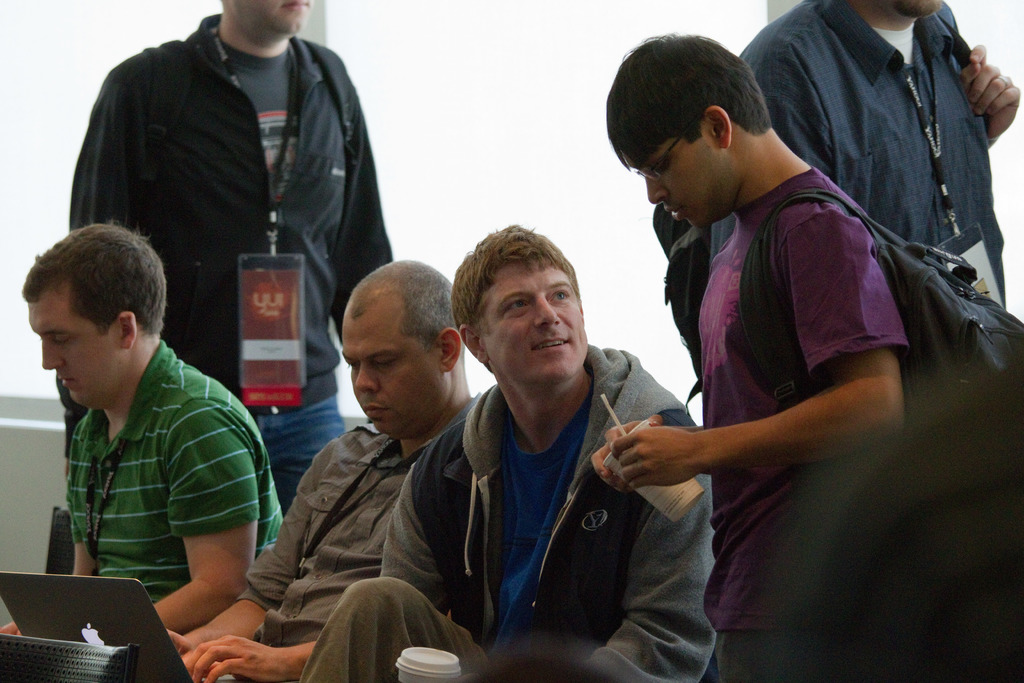Human_hand: (961, 45, 1021, 145), (592, 414, 664, 491), (187, 634, 291, 682), (171, 630, 195, 667), (0, 620, 21, 637)
